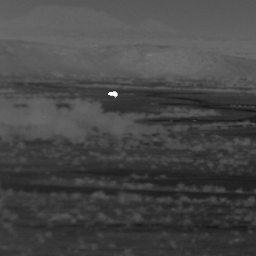Target: (107, 90, 119, 98)
